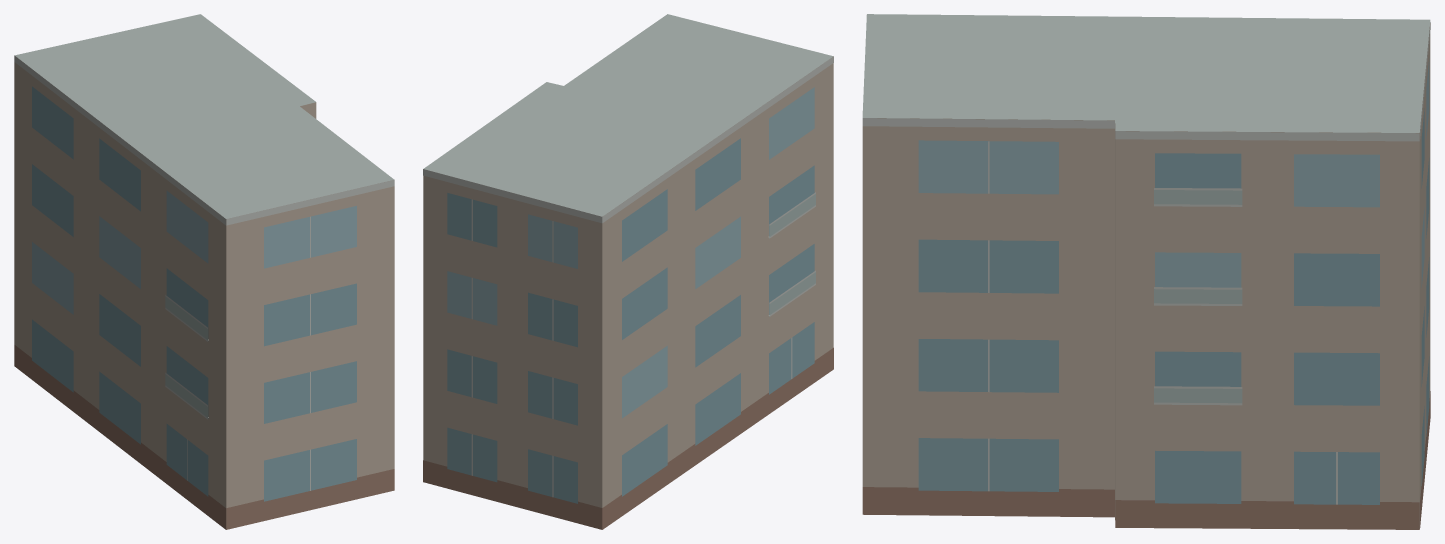
File: survey-upis-32687599.glb
3 renders of one model, left to right at view 1: azimuth 30°, elevation 25°; view 2: azimuth 150°, elevation 25°; view 3: azimuth 270°, elevation 25°, orthographic. The views are drawn at different scales.
Visible parts, largest first — view 1: survey-upis-32687599.tmp; view 2: survey-upis-32687599.tmp; view 3: survey-upis-32687599.tmp.
Part boxes in pixels (x1,y1,x2,y2): survey-upis-32687599.tmp: (14, 14, 394, 529); survey-upis-32687599.tmp: (423, 14, 833, 529); survey-upis-32687599.tmp: (862, 14, 1430, 529).
Size of the model in its own units: 7.48 by 11.6 by 15.06.
